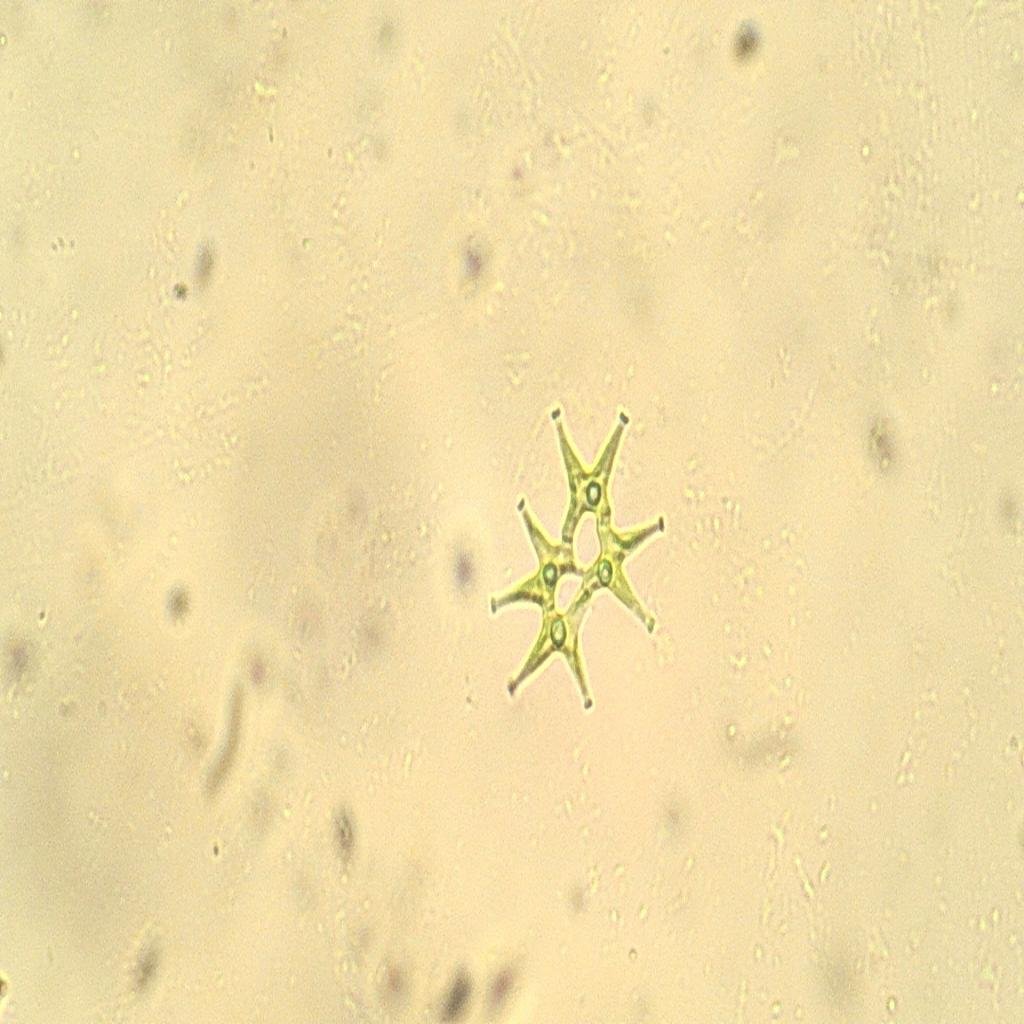Pediastrum_75FO: (484, 373, 682, 760)
